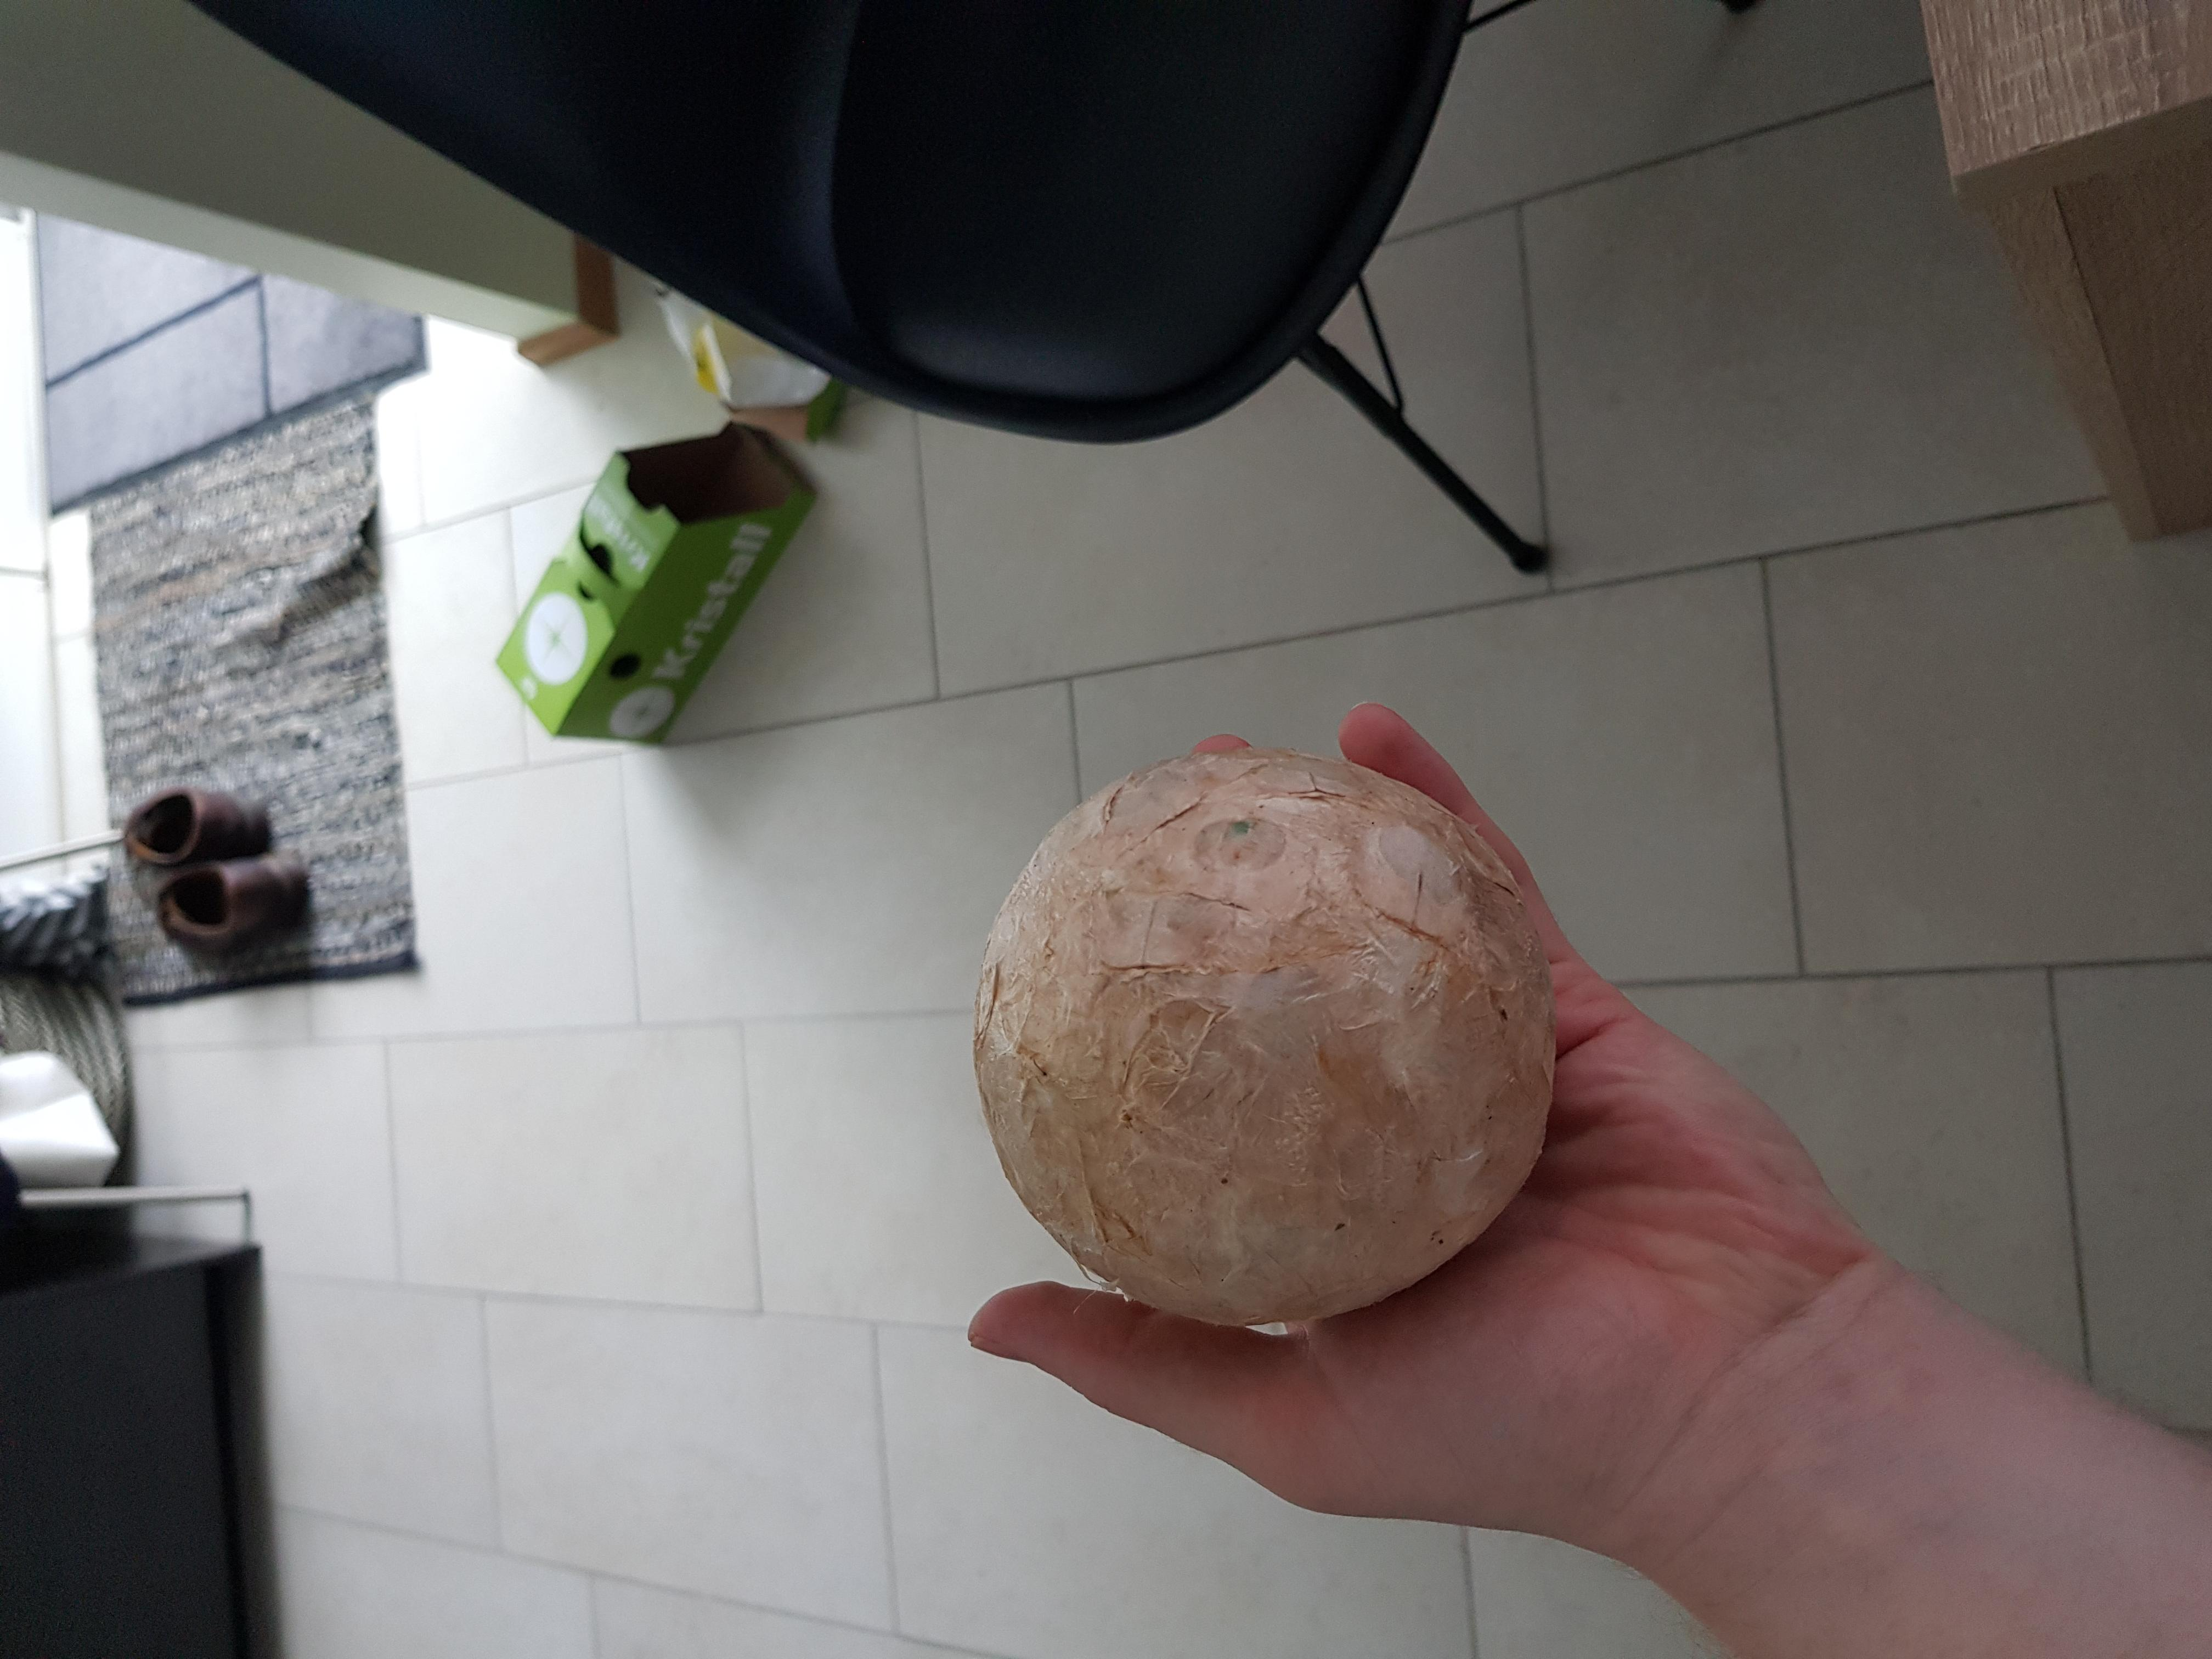sphere: (961, 730, 1564, 1331)
